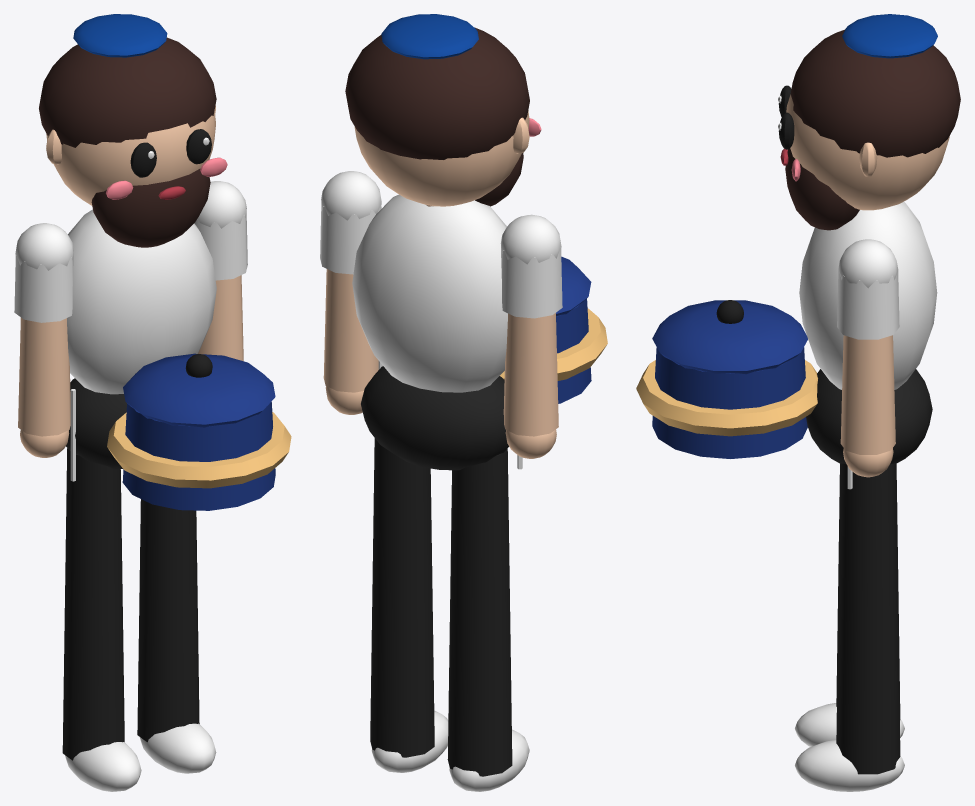
Rendered from shabbos_cholent.glb.
3 renders of one model, left to right at view 1: azimuth 30°, elevation 25°; view 2: azimuth 150°, elevation 25°; view 3: azimuth 270°, elevation 25°, orthographic. The views are drawn at different scales.
Visible parts, largest first — view 1: Body.001, ShabbosCholentExtra, Leg_R.001, Leg_L.001, Arm_R.001, Arm_L.001; view 2: Body.001, Leg_R.001, Leg_L.001, Arm_R.001, Arm_L.001, ShabbosCholentExtra; view 3: Body.001, ShabbosCholentExtra, Leg_L.001, Arm_L.001, Leg_R.001.
Boxes of the visible parts, bbox=[...] form: Body.001: bbox=[39, 14, 227, 481]; ShabbosCholentExtra: bbox=[107, 353, 291, 510]; Leg_R.001: bbox=[62, 448, 141, 791]; Leg_L.001: bbox=[137, 499, 216, 773]; Arm_R.001: bbox=[14, 223, 73, 457]; Arm_L.001: bbox=[194, 181, 247, 361]; Body.001: bbox=[345, 14, 541, 470]; Leg_R.001: bbox=[447, 448, 529, 791]; Leg_L.001: bbox=[370, 438, 448, 772]; Arm_R.001: bbox=[500, 214, 562, 458]; Arm_L.001: bbox=[320, 171, 381, 414]; ShabbosCholentExtra: bbox=[500, 256, 607, 403]; Body.001: bbox=[778, 14, 960, 489]; ShabbosCholentExtra: bbox=[636, 300, 817, 458]; Leg_L.001: bbox=[795, 463, 904, 791]; Arm_L.001: bbox=[837, 239, 899, 477]; Leg_R.001: bbox=[795, 464, 904, 746].
Size of the model in its own units: 0.57 by 1.78 by 0.7064.
